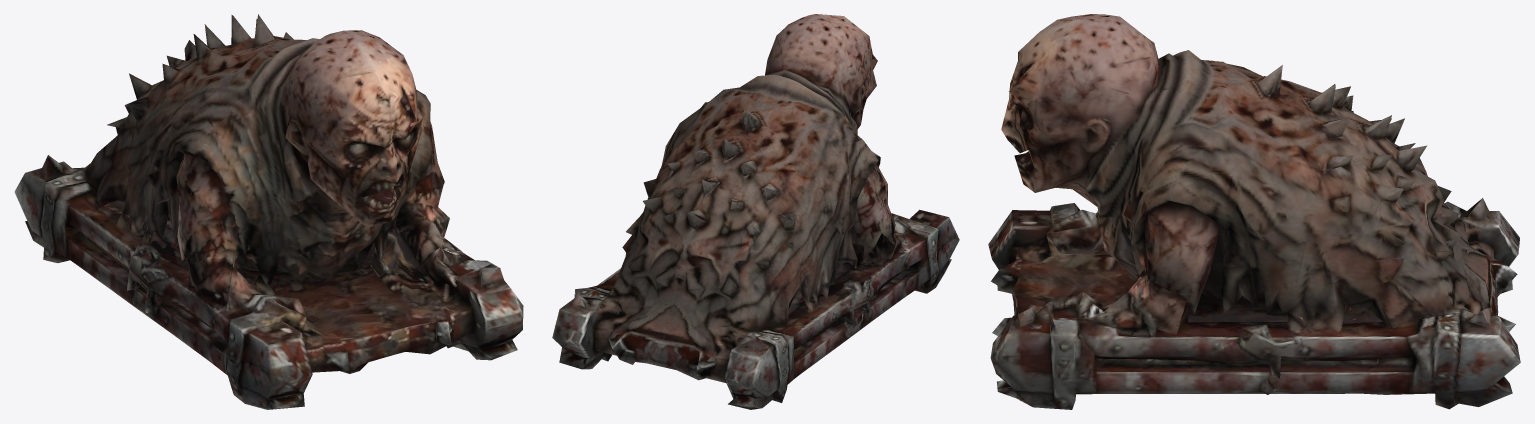
Rendered from crawler.glb.
The picture shows the model from 3 angles, left to right: view 1: azimuth 30°, elevation 25°; view 2: azimuth 150°, elevation 25°; view 3: azimuth 270°, elevation 25°; orthographic projection. The views are drawn at different scales.
Visible parts, largest first — view 1: Mesh_0; view 2: Mesh_0; view 3: Mesh_0.
Boxes of the visible parts, left/top/right/bottom form: Mesh_0: left=14, top=14, right=523, bottom=409; Mesh_0: left=552, top=14, right=959, bottom=409; Mesh_0: left=988, top=14, right=1520, bottom=409.
Size of the model in its own units: 1.17 by 1.31 by 1.93.
Materials: 1 (1 with a texture image).
